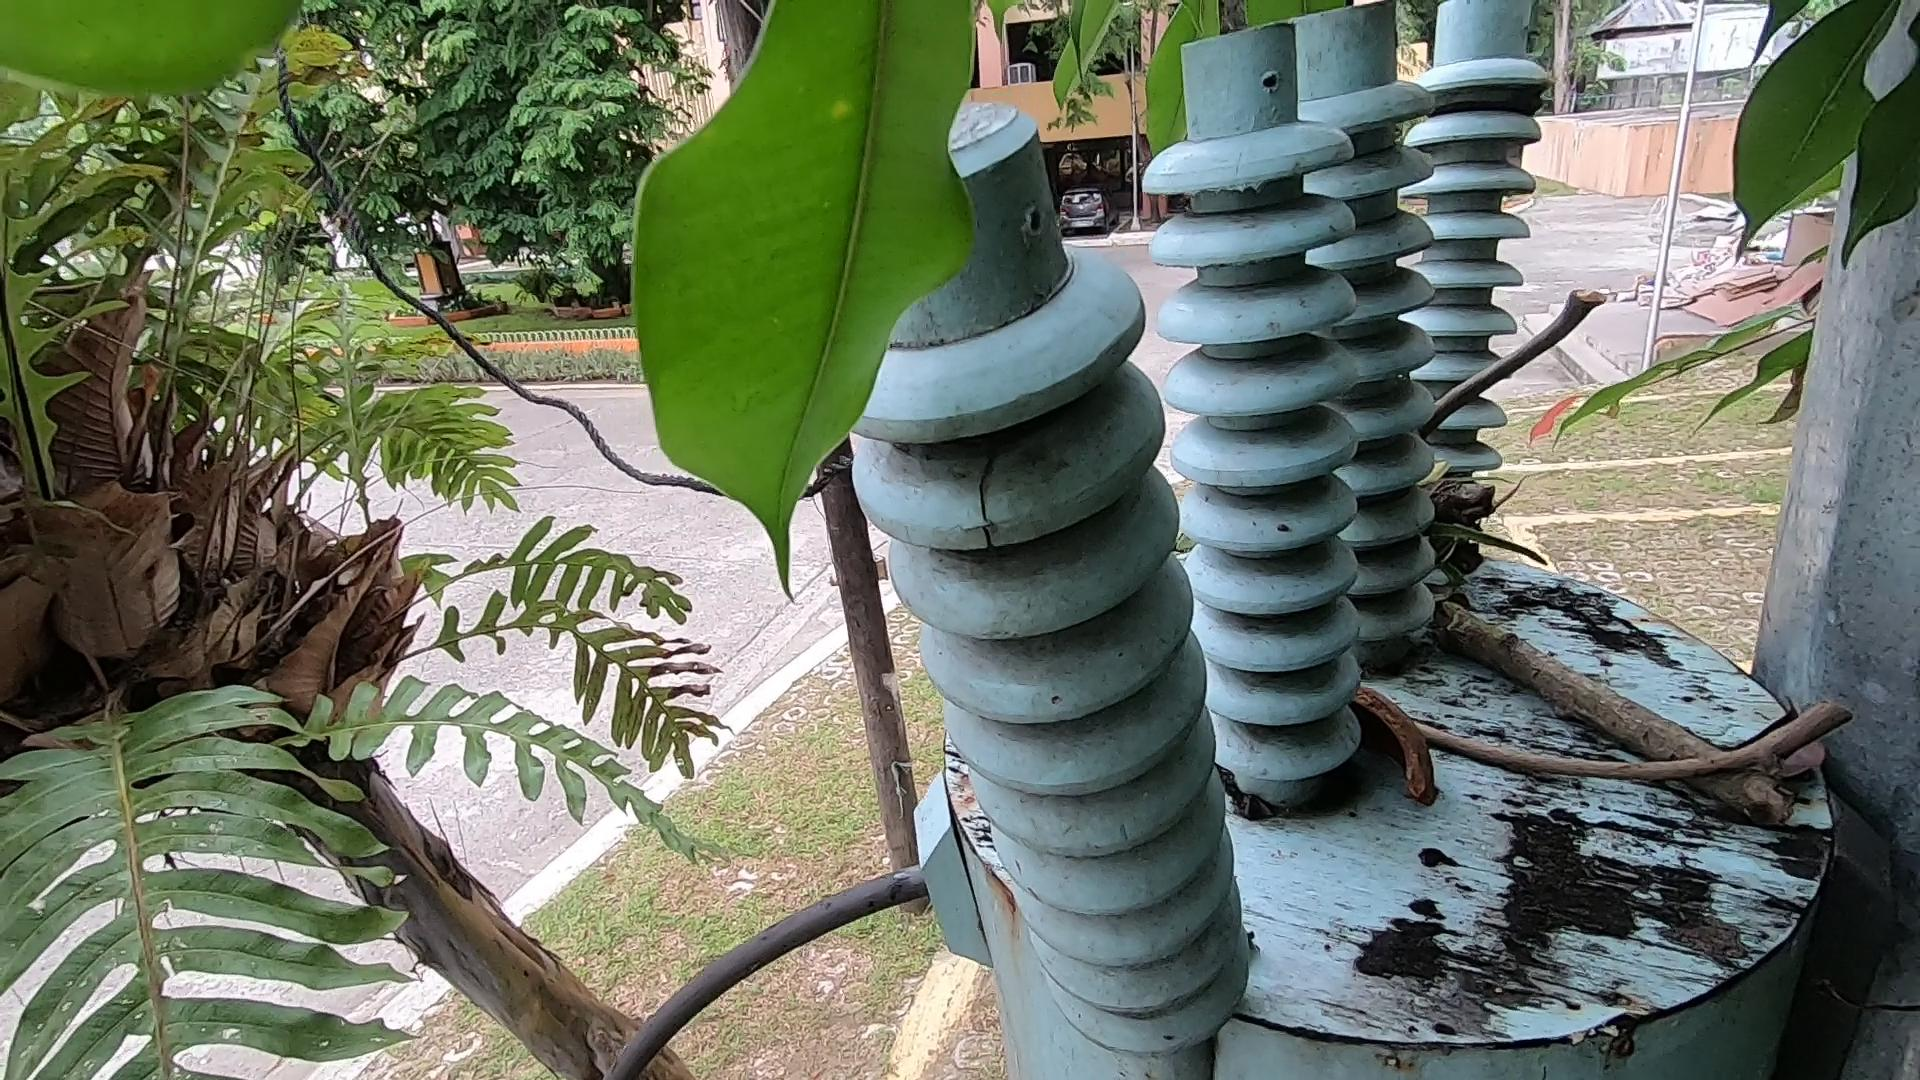branch with leaves: (1408, 404, 1840, 855)
leaf: (1766, 721, 1854, 804)
mahogany fruit: (1338, 682, 1464, 890)
tree branch: (1385, 713, 1854, 823), (1420, 255, 1582, 495)
